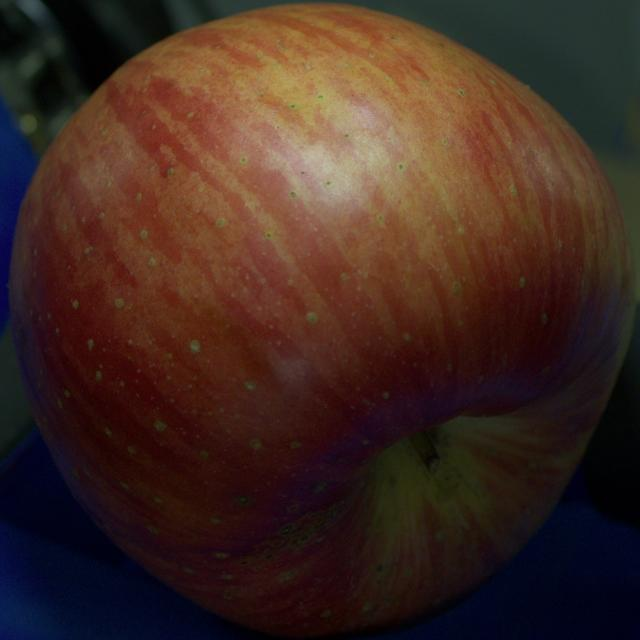apple: (8, 4, 635, 636)
pest: (235, 496, 250, 505), (281, 525, 292, 534)
